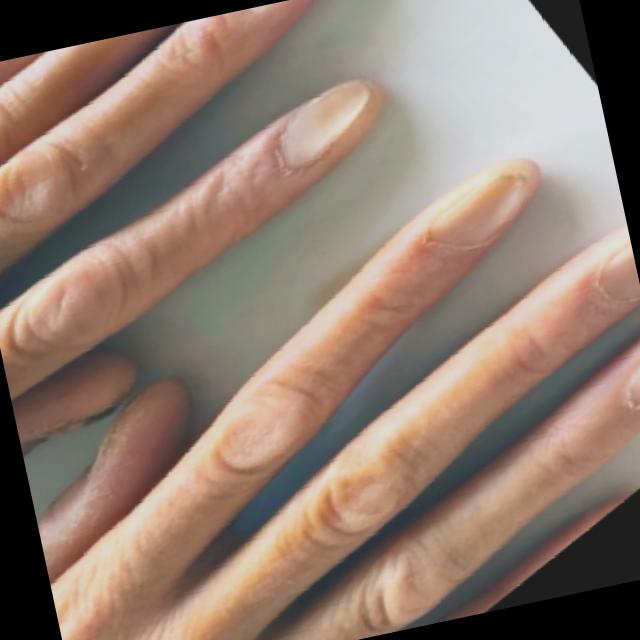Nail: (277, 82, 367, 167), (430, 173, 526, 243)
